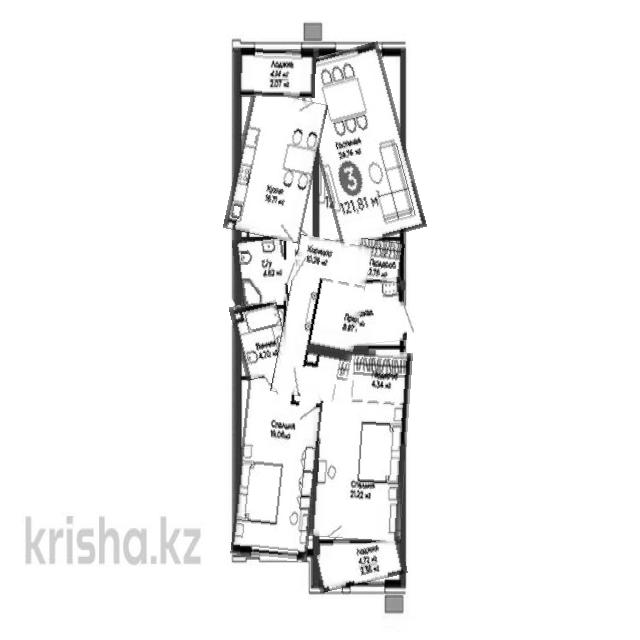balcony: (314, 541, 406, 589), (238, 49, 316, 97)
bathroom: (233, 299, 289, 379), (235, 236, 288, 305)
hallway: (271, 234, 372, 397), (314, 279, 406, 347)
kitchen: (230, 92, 322, 241)
living_room: (304, 45, 416, 245), (311, 348, 410, 542), (234, 374, 320, 561)
other: (358, 239, 404, 282)
